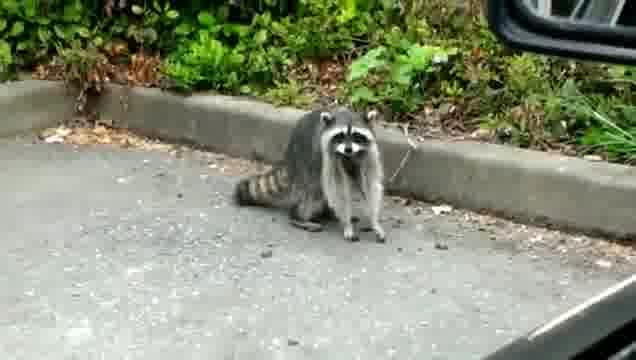raccoon: (232, 107, 390, 245)
